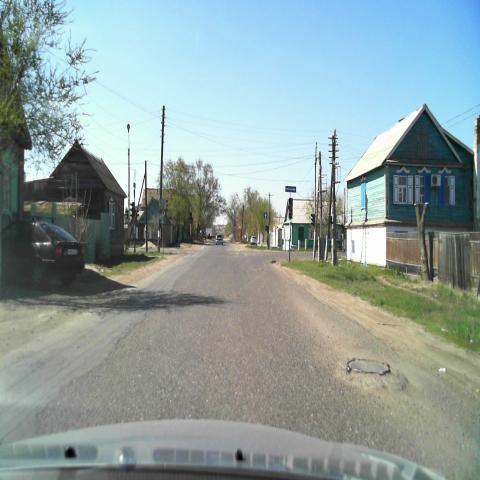5_5: (263, 212, 268, 221)
5_7_1: (285, 186, 296, 193)
